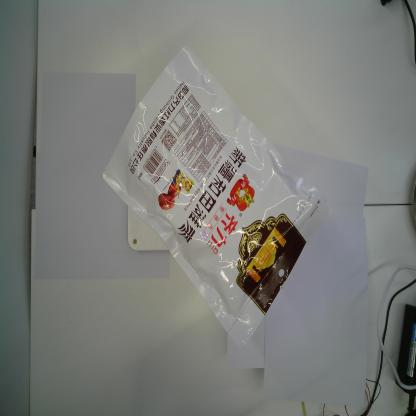Dried Food: (102, 44, 325, 350)
